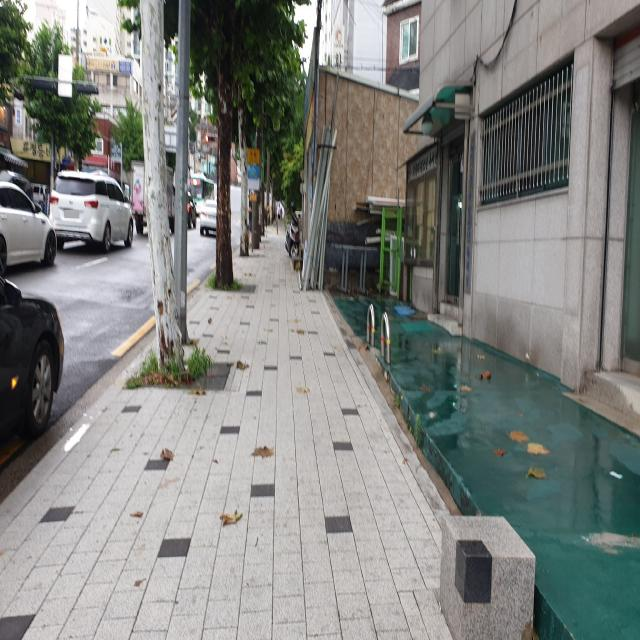car: (0, 276, 65, 442), (50, 171, 134, 252), (0, 182, 57, 274), (132, 162, 174, 235), (200, 199, 216, 239)
motorbike: (284, 212, 300, 258)
